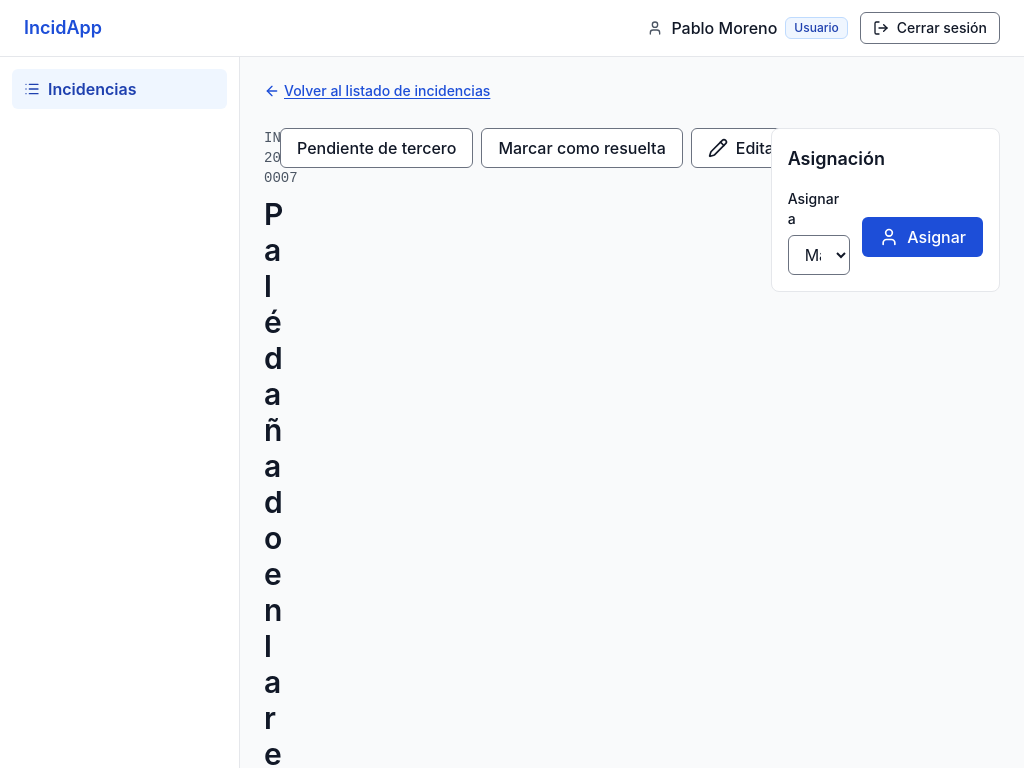
CA-04.8 · acciones de estado en el detalle › un error de la API se muestra en español dentro del diálogo sin perder el comentario
This screenshot has width=1024, height=768.
Click the button "Marcar como resuelta".
click(582, 148)  # box 481,128 -> 683,168
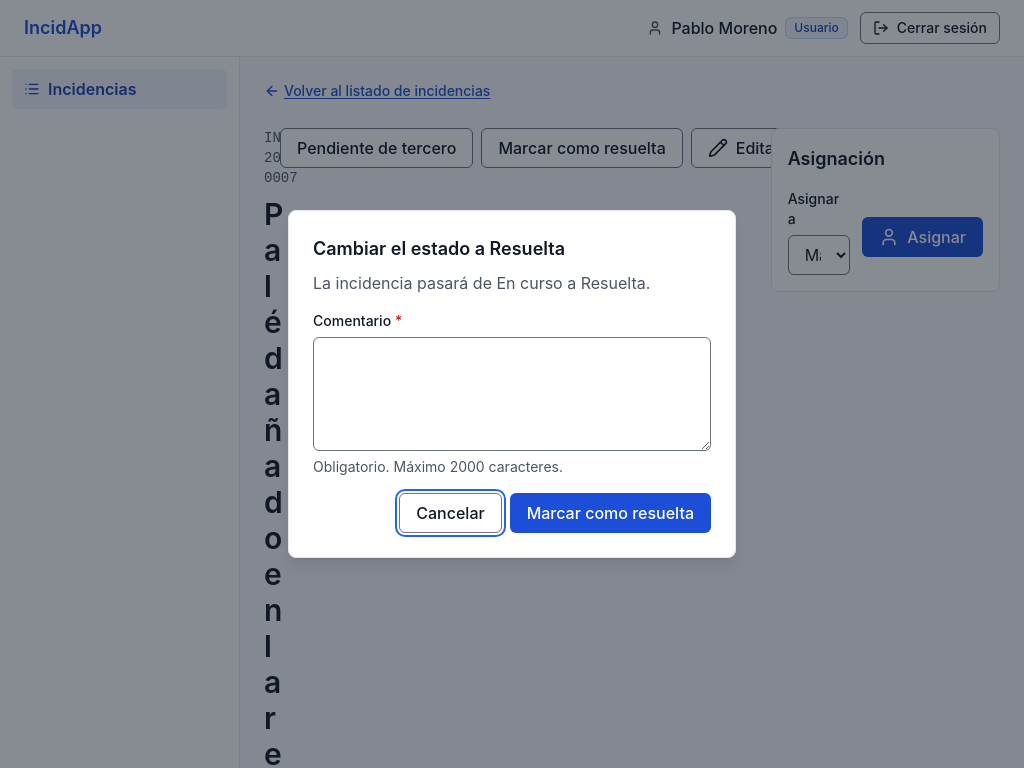
Type "Palé repuesto." into the text box labelled "Comentario*".
click(512, 394); type("Palé repuesto.")  # box 313,337 -> 711,451
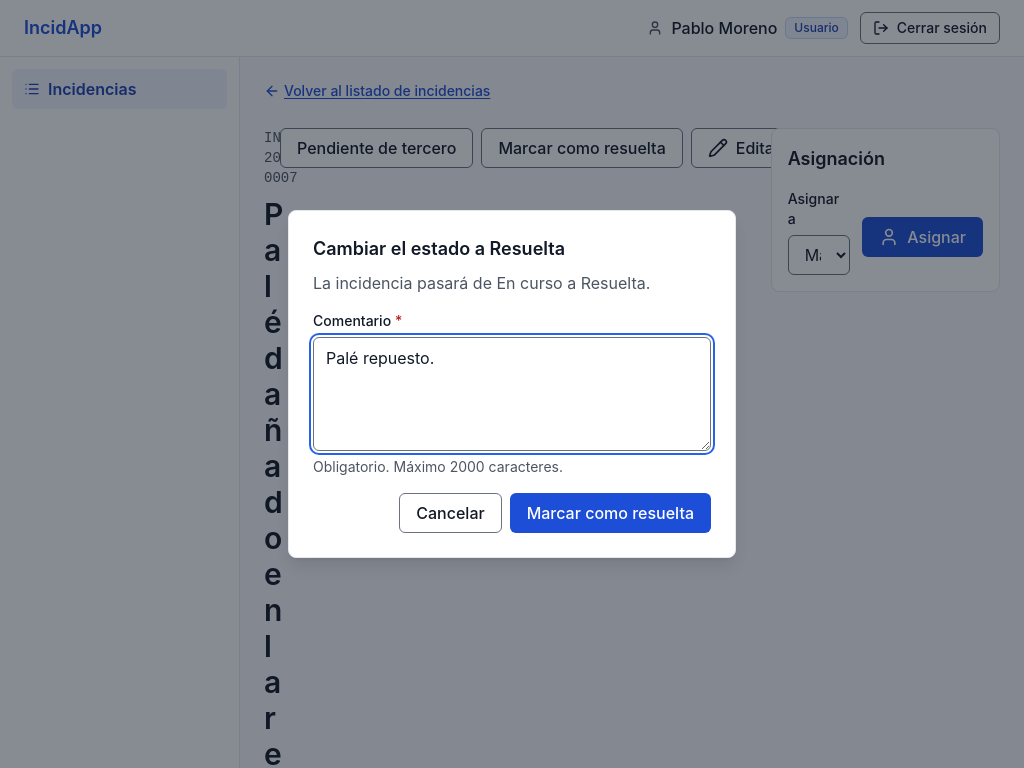
Click the button "Marcar como resuelta".
click(610, 513)  # box 510,493 -> 711,533
(page scrolled)
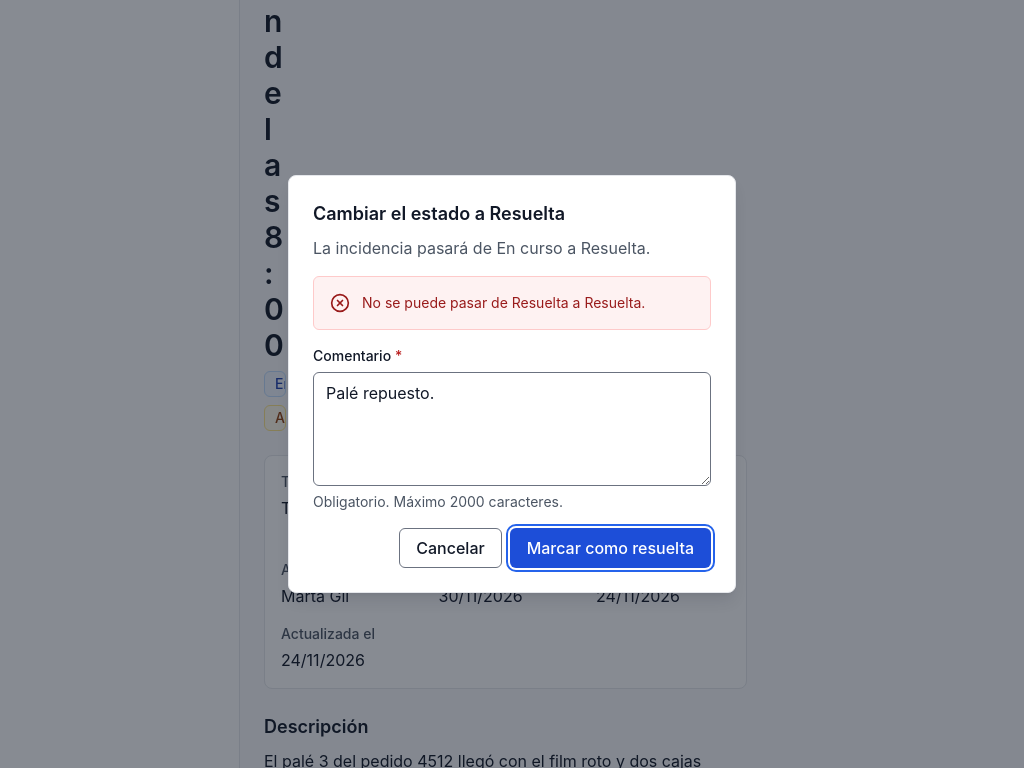
Check: the text "En curso" is shown, box 264,371 -> 286,397
Check: the message reads "No se puede pasar de Resuelta a Resuelta.", box 362,294 -> 645,311
